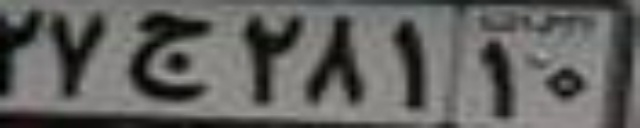0: (539, 68, 589, 100)
1: (479, 39, 517, 116), (392, 19, 425, 107)
2: (240, 14, 299, 104), (1, 8, 39, 98)
7: (48, 9, 107, 97)
8: (307, 15, 363, 102)
jim: (127, 14, 211, 100)
